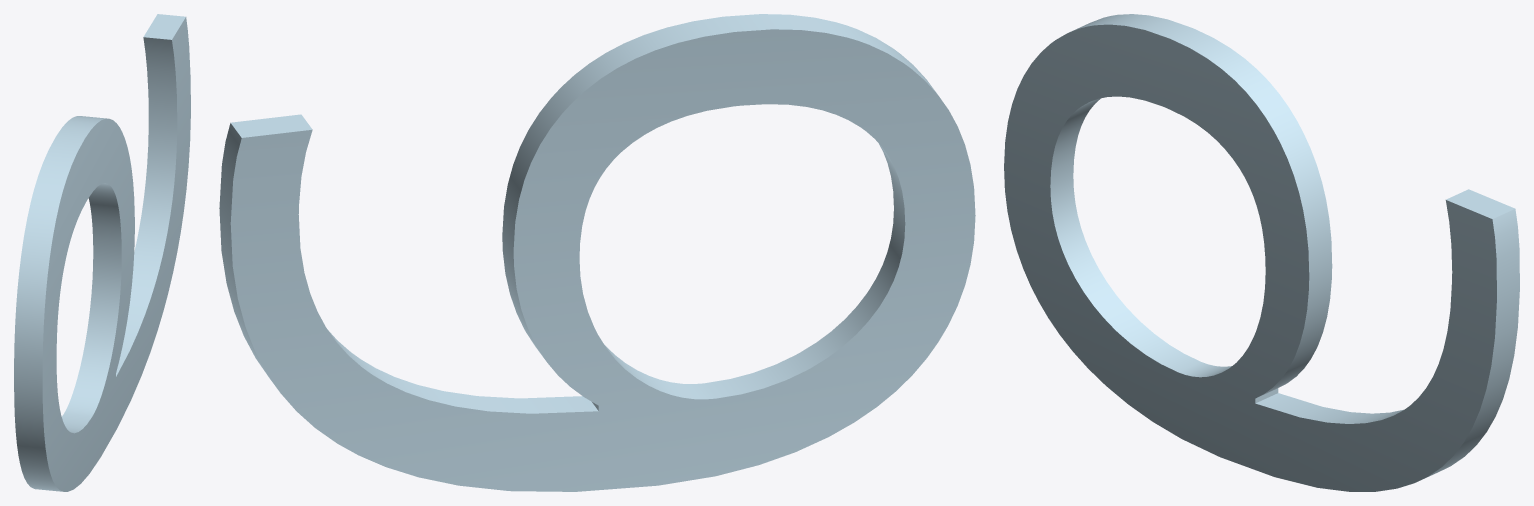
Rendered from Number_9.gltf.
3 views of the same model, side by side, from view 1: azimuth 30°, elevation 25°; view 2: azimuth 150°, elevation 25°; view 3: azimuth 270°, elevation 25° (orthographic). The views are drawn at different scales.
Parts seen in each view (by area): view 1: Sub_4_Cell_2_2_Number_9; view 2: Sub_4_Cell_2_2_Number_9; view 3: Sub_4_Cell_2_2_Number_9.
Boxes of the visible parts, x1,y1,x2,y2 form: Sub_4_Cell_2_2_Number_9: (14,14,190,491); Sub_4_Cell_2_2_Number_9: (219,14,975,491); Sub_4_Cell_2_2_Number_9: (1004,14,1519,491).
Bounding box in the file's own units: 0.0191 × 0.0165 × 0.0194.
